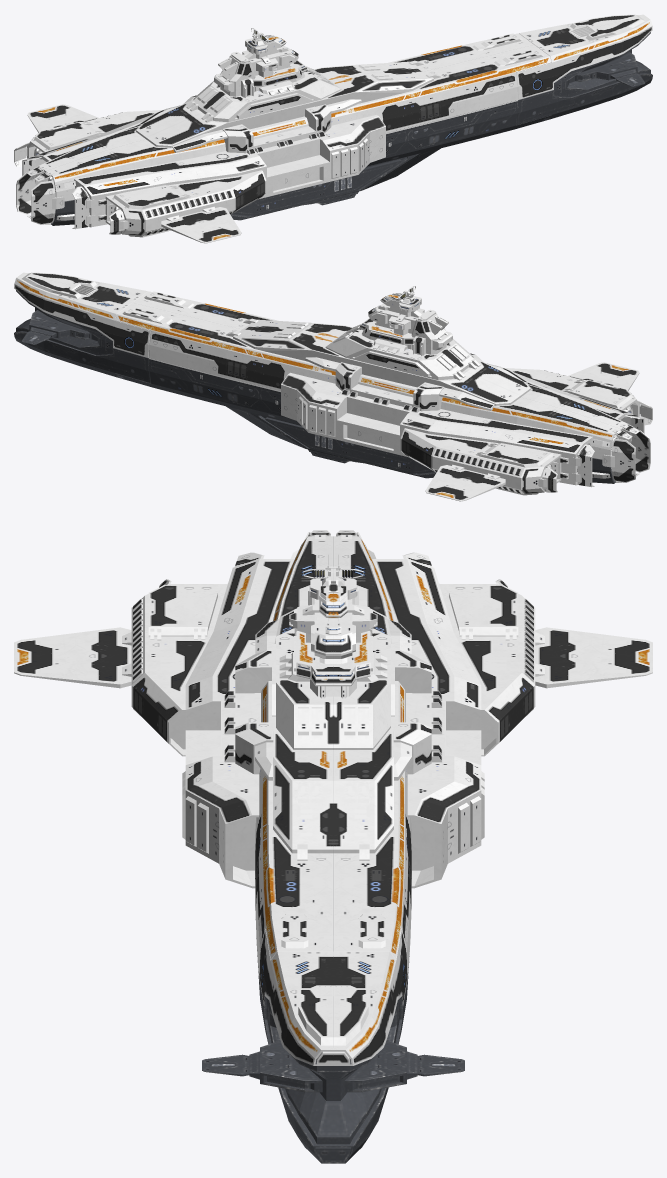
3 renders of one model, top to bottom at view 1: azimuth 30°, elevation 25°; view 2: azimuth 150°, elevation 25°; view 3: azimuth 270°, elevation 25°, orthographic. The views are drawn at different scales.
Visible parts, largest first — view 1: SK_Ship_SolarBattleCruiser.001; view 2: SK_Ship_SolarBattleCruiser.001; view 3: SK_Ship_SolarBattleCruiser.001.
Part boxes in pixels (left/top/right/bottom): SK_Ship_SolarBattleCruiser.001: left=14, top=14, right=652, bottom=243; SK_Ship_SolarBattleCruiser.001: left=14, top=272, right=652, bottom=501; SK_Ship_SolarBattleCruiser.001: left=14, top=530, right=652, bottom=1163.
Bounding box in the file's own units: 22.54 × 6.23 × 11.14.
Materials: 1 (1 with a texture image).
